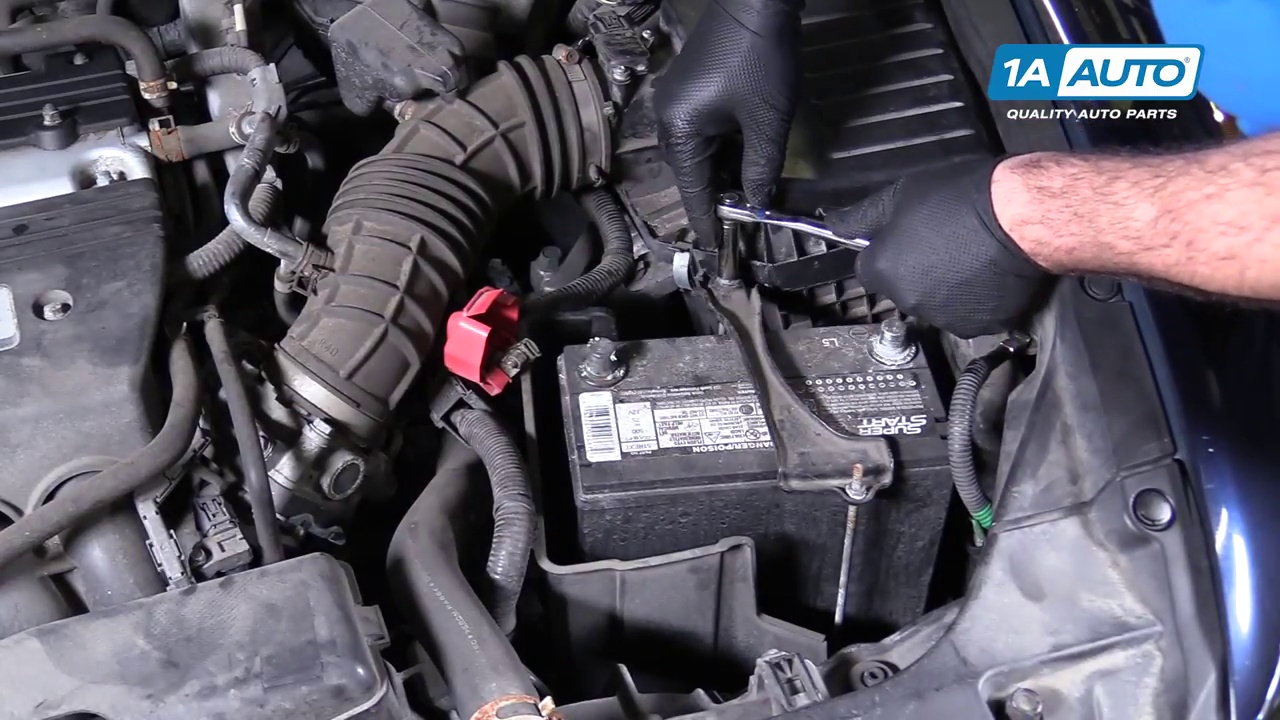battery: (558, 290, 966, 495)
neg_disconnected: (833, 290, 952, 380)
neg_touched: (813, 213, 984, 392)
pos_disconnected: (439, 277, 648, 418)
